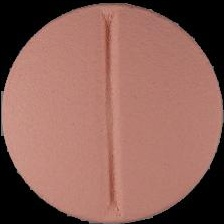0378-6232: (0, 0, 224, 224)
